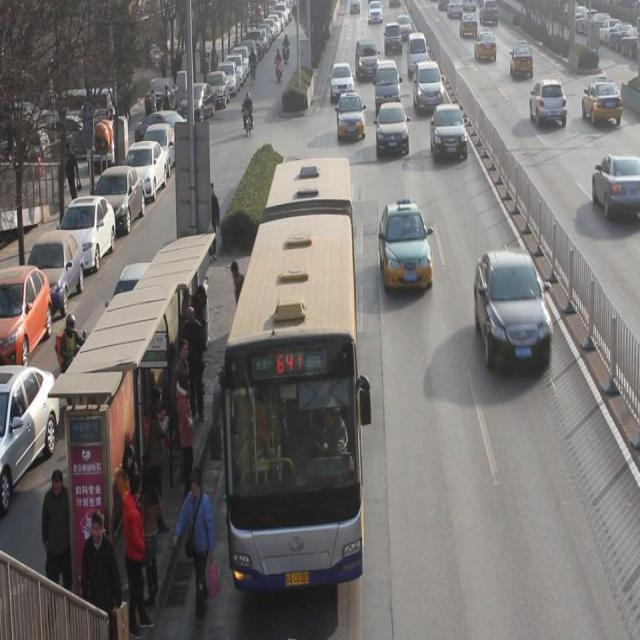car: (474, 250, 553, 370), (379, 201, 433, 293), (592, 153, 640, 223), (430, 104, 467, 164), (583, 74, 623, 127), (529, 78, 567, 128), (377, 103, 409, 155), (412, 62, 445, 111), (337, 90, 365, 140), (357, 39, 380, 81), (330, 62, 355, 100), (511, 42, 534, 78), (473, 30, 498, 62), (385, 22, 402, 54), (398, 15, 412, 42)
truck: (376, 63, 400, 111), (408, 32, 428, 75)
van: (221, 159, 363, 588)
